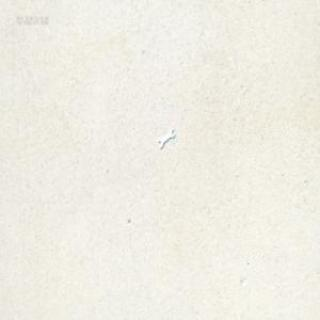Wrenchtrack_idkeyframe: (156, 128, 174, 148)
